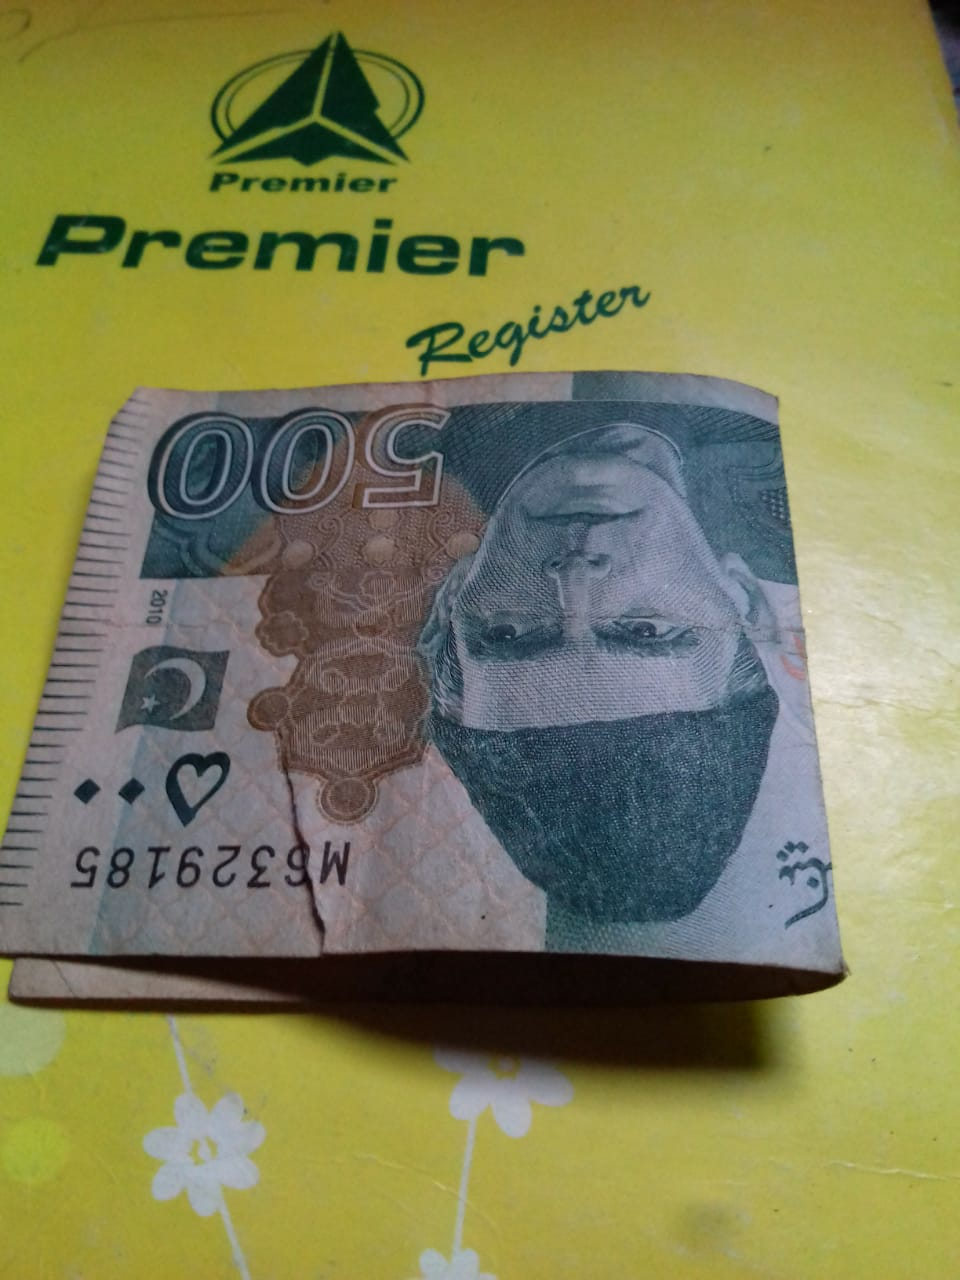500 rupee: (14, 381, 869, 1024)
